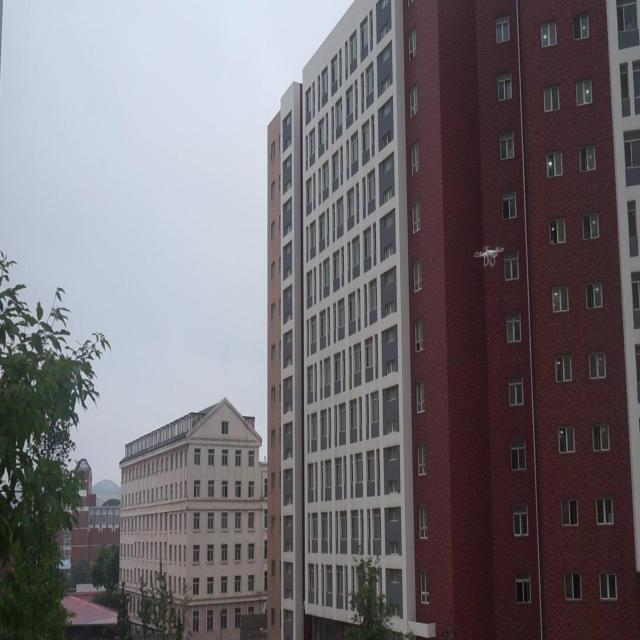UAV: (474, 246, 504, 268)
